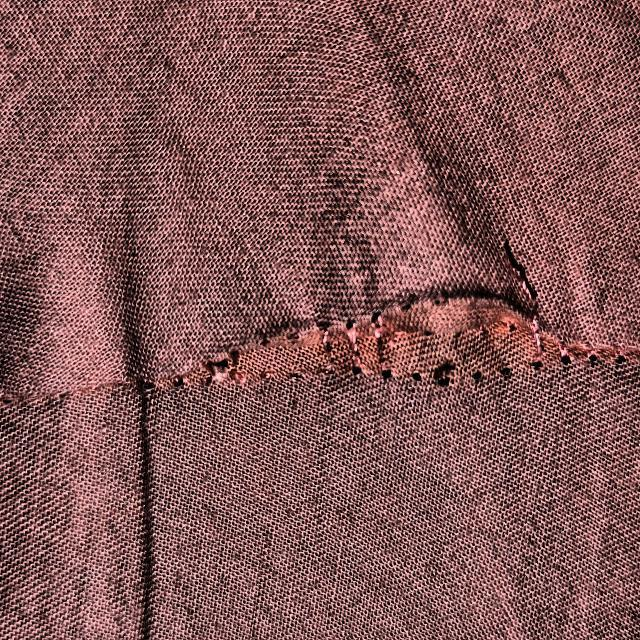cut: (170, 255, 615, 422)
